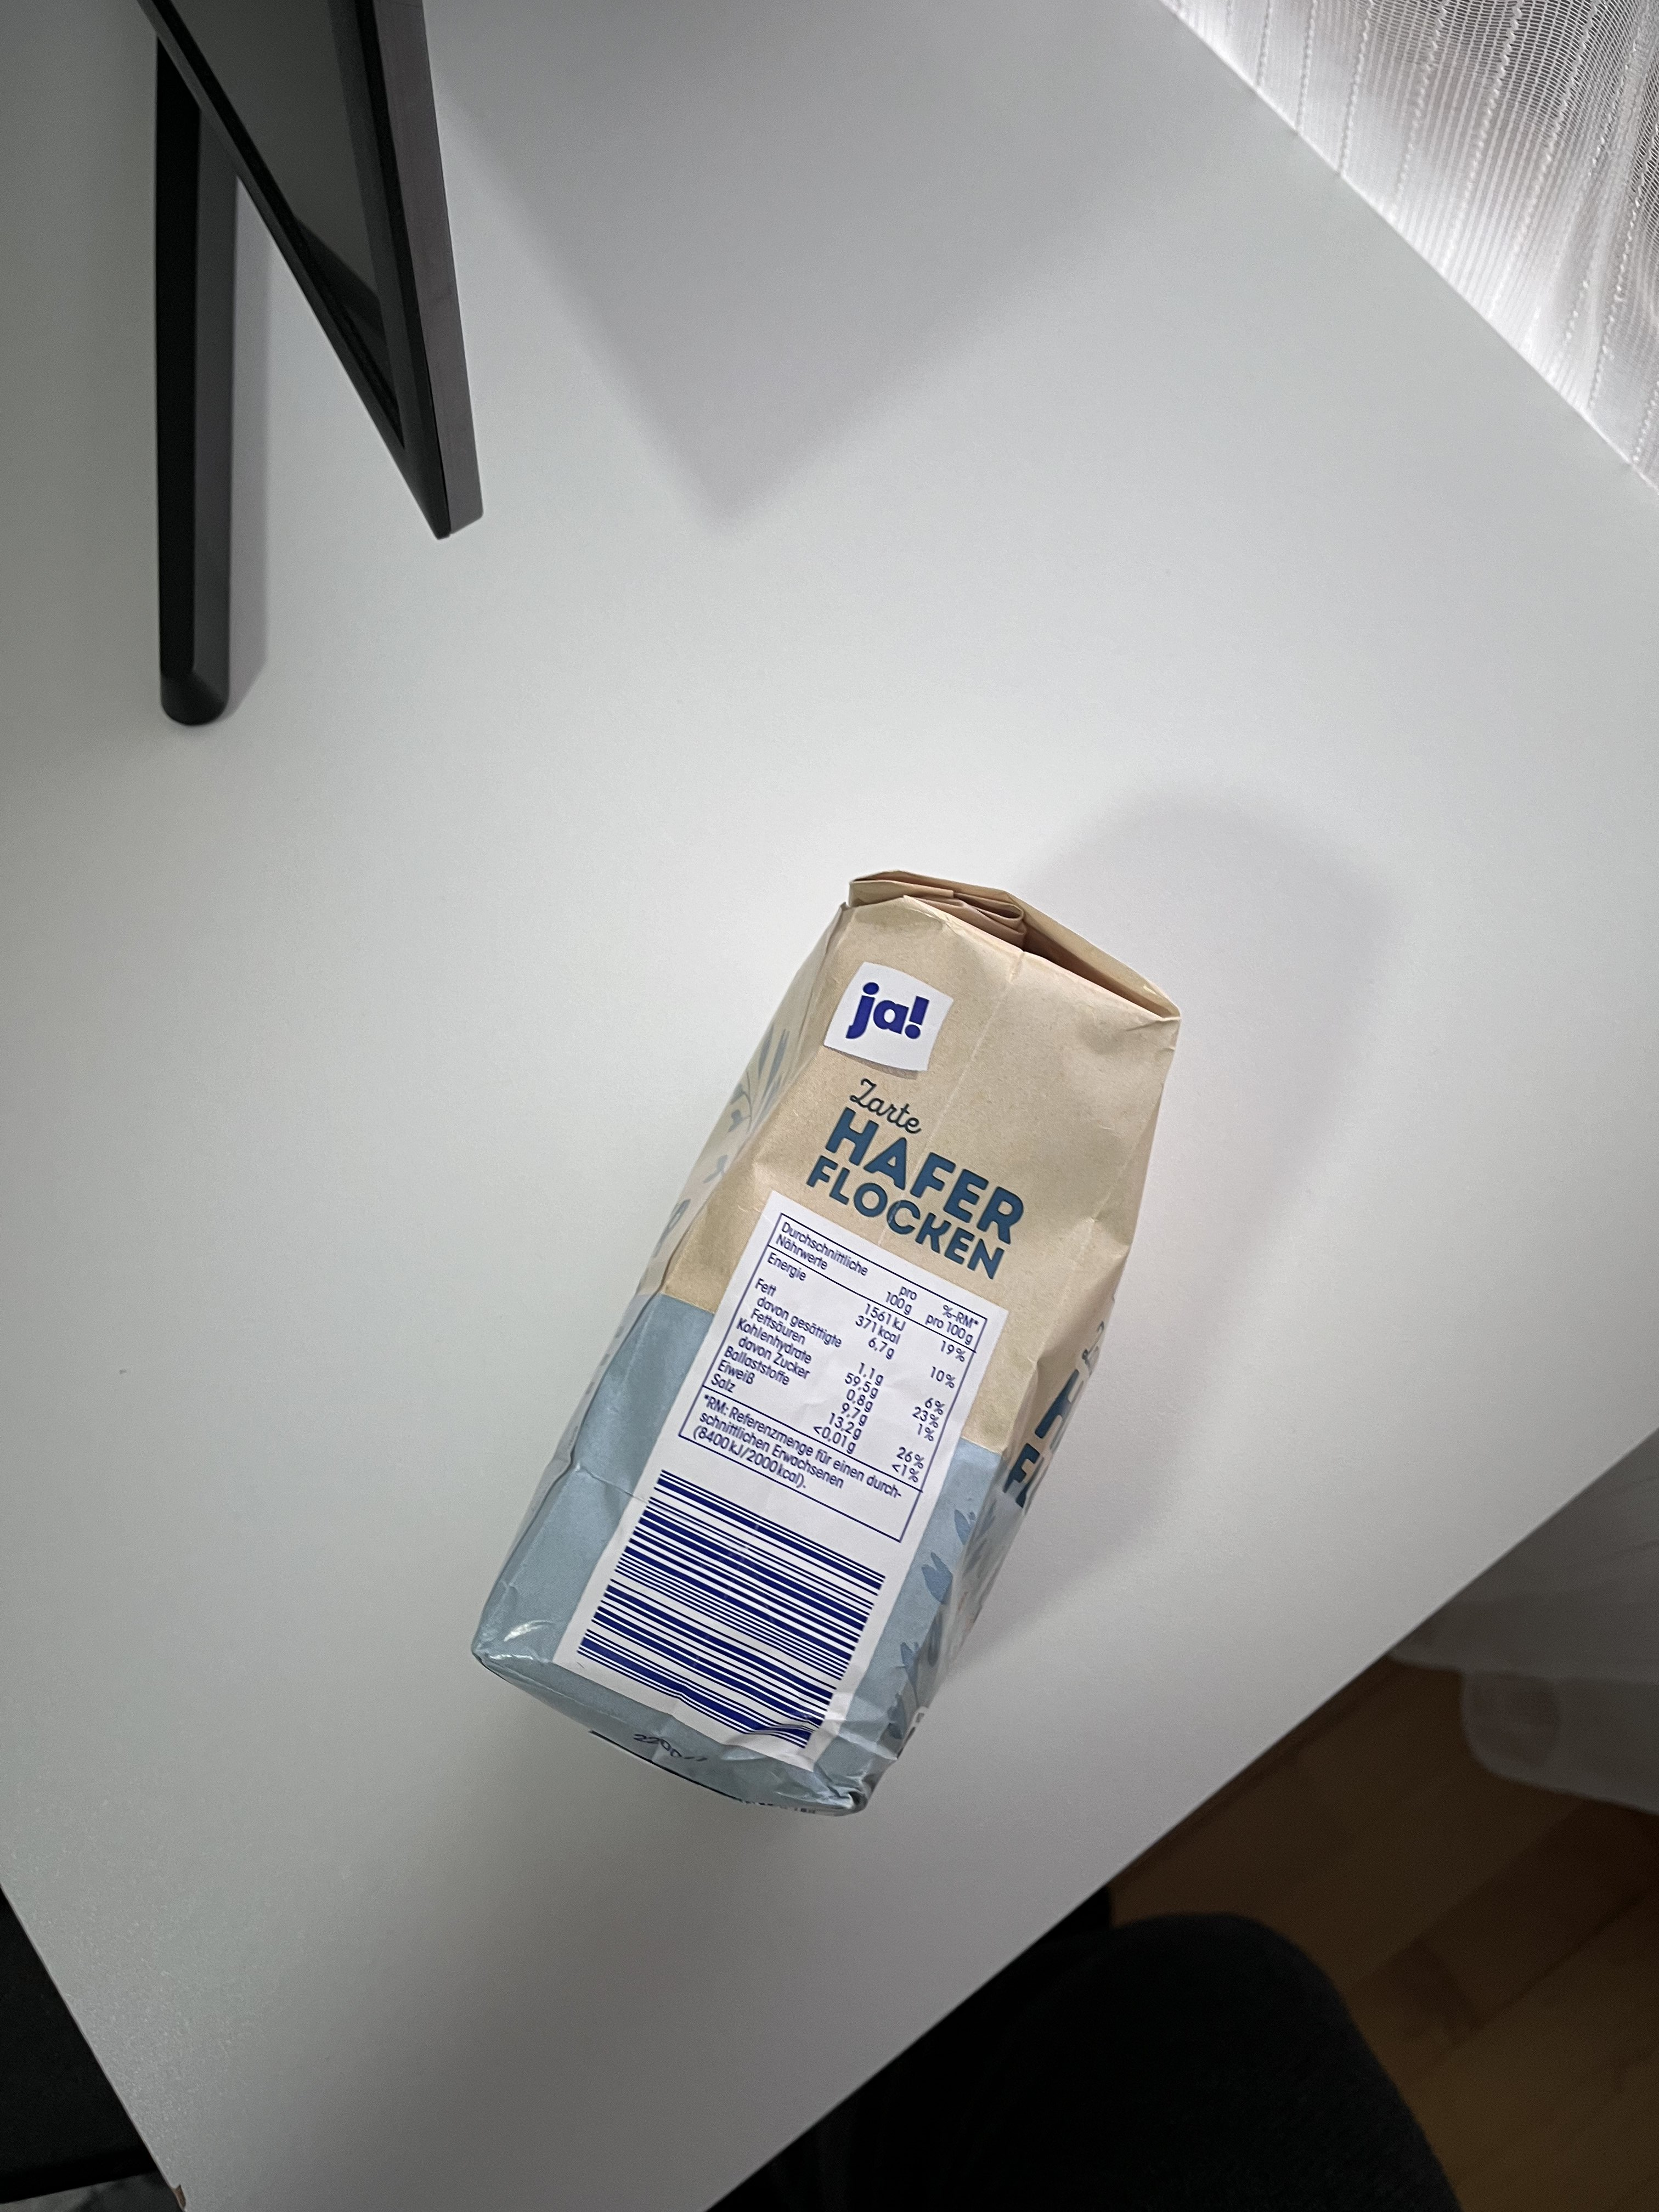haferflocken_ja: (472, 869, 1180, 1817)
